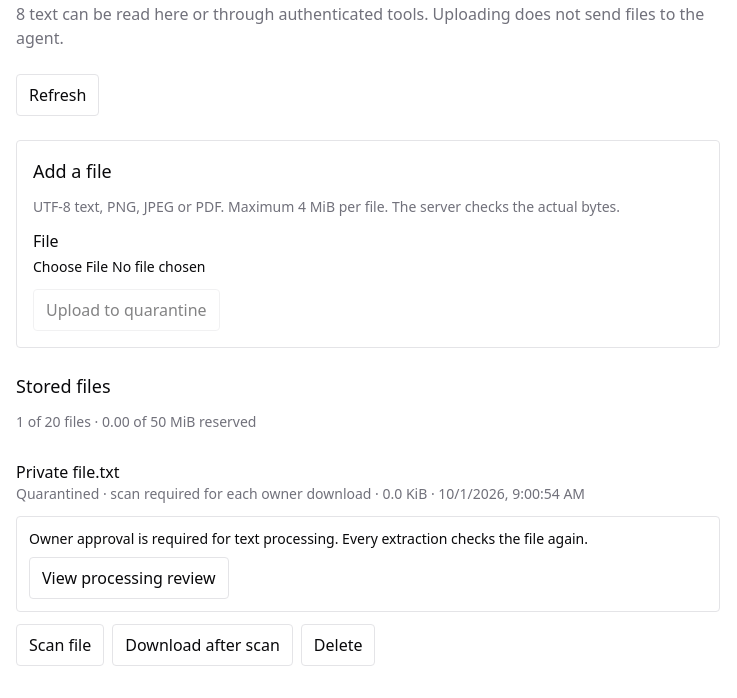
Test: refuses a foreign download URL before sending the owner's credential
(page scrolled)
Step 1. Click the button "Download after scan" → coordinates (203, 645), box top-left (112, 624), bottom-right (293, 666)
(page scrolled)
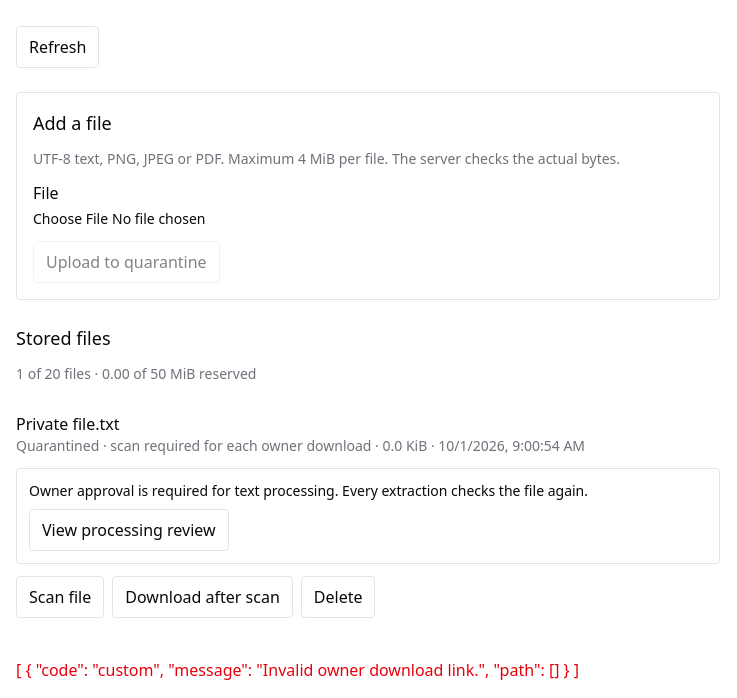
Now the message is shown, box top-left (16, 659), bottom-right (579, 681)
